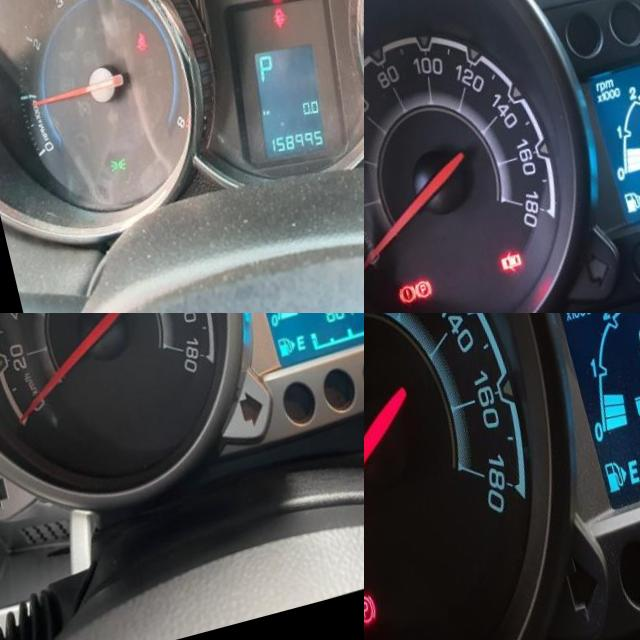Doors: (478, 264, 503, 290), (254, 22, 271, 45)
SideLamp: (87, 162, 106, 179)
